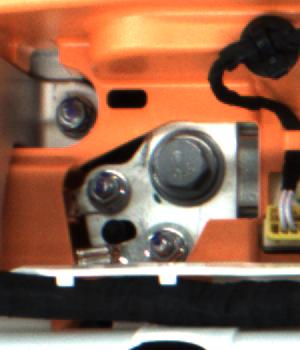nut_b: (146, 128, 222, 196)
screw_s: (82, 166, 134, 206), (52, 92, 89, 135), (146, 228, 181, 259)
